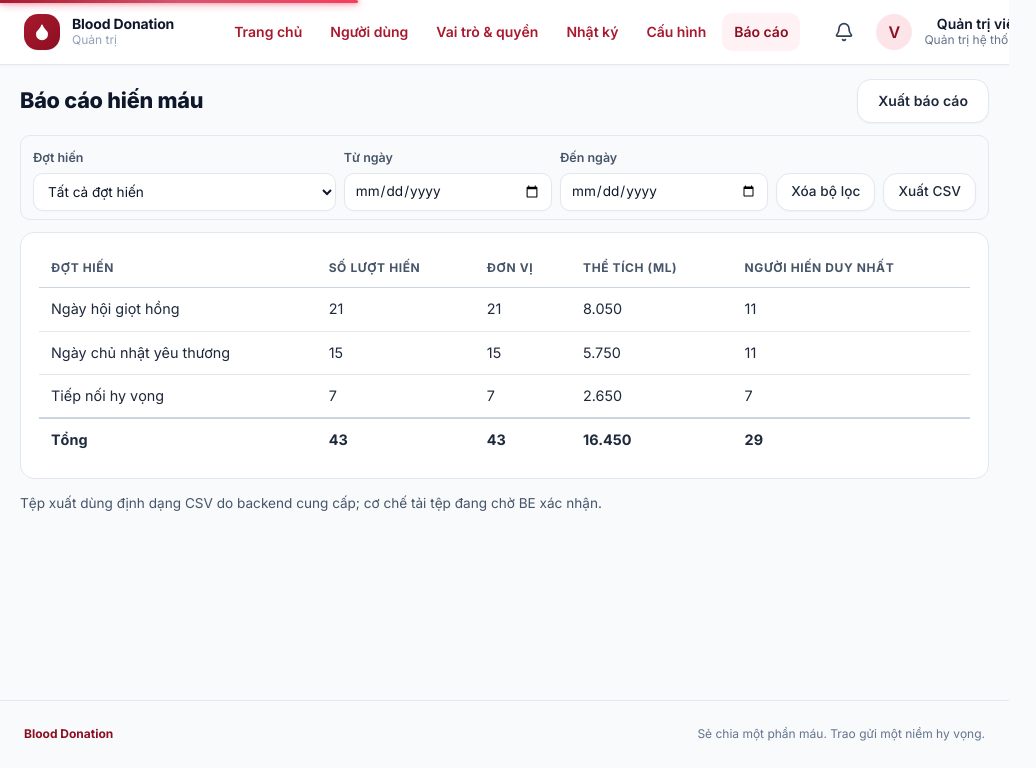
Test: Reports › renders rows with totals and exports CSV
Expected: the text "Ngày hội giọt hồng" is shown, [39, 288, 317, 331]
Expected: the row "Tổng 43 43 16.450 29" is shown, [39, 418, 970, 462]
Step 1. Click the button "Xuất CSV" → {"x": 930, "y": 192}, box [883, 173, 976, 211]
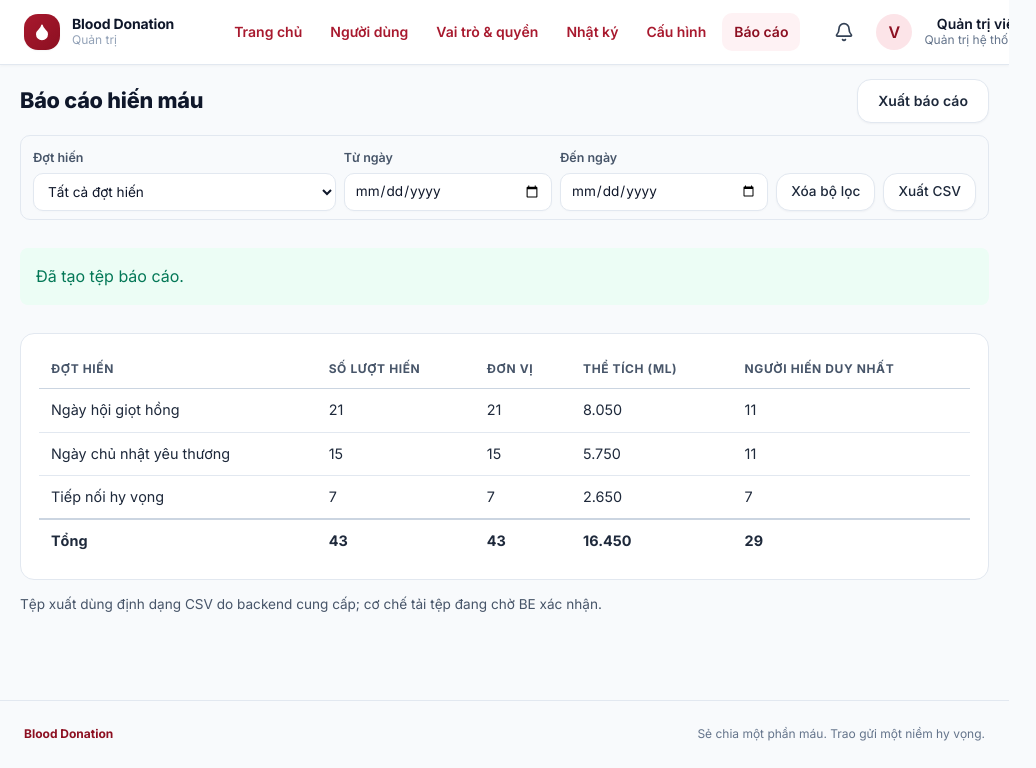
Now the text "Đã tạo tệp báo cáo." is shown, box [20, 248, 989, 305]
